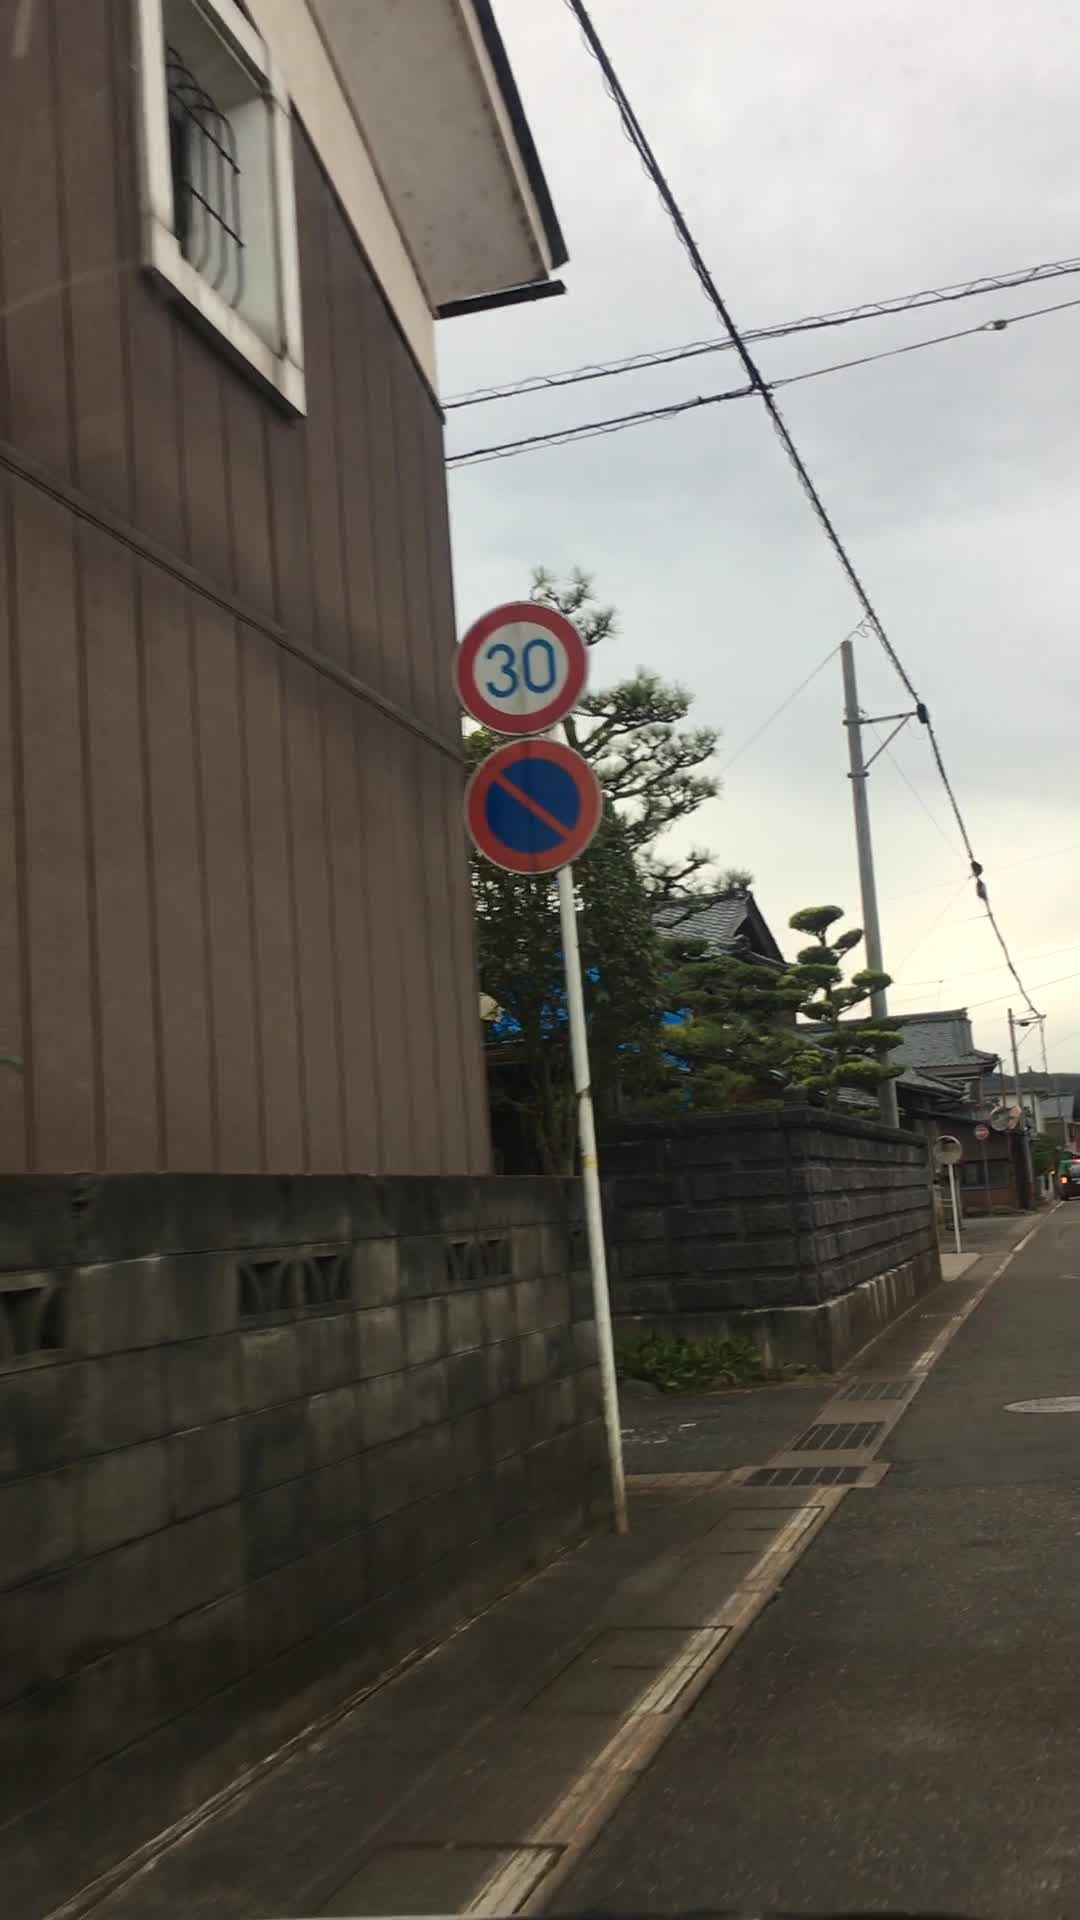Prohibition_sign: (469, 723, 608, 882)
Speed_sign: (440, 585, 636, 762)
